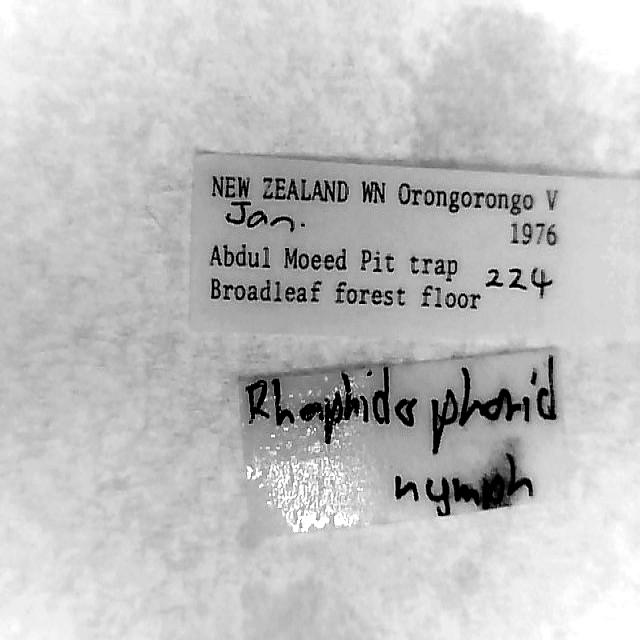hand_label: (240, 350, 564, 532)
mixed_label: (190, 155, 640, 342)
